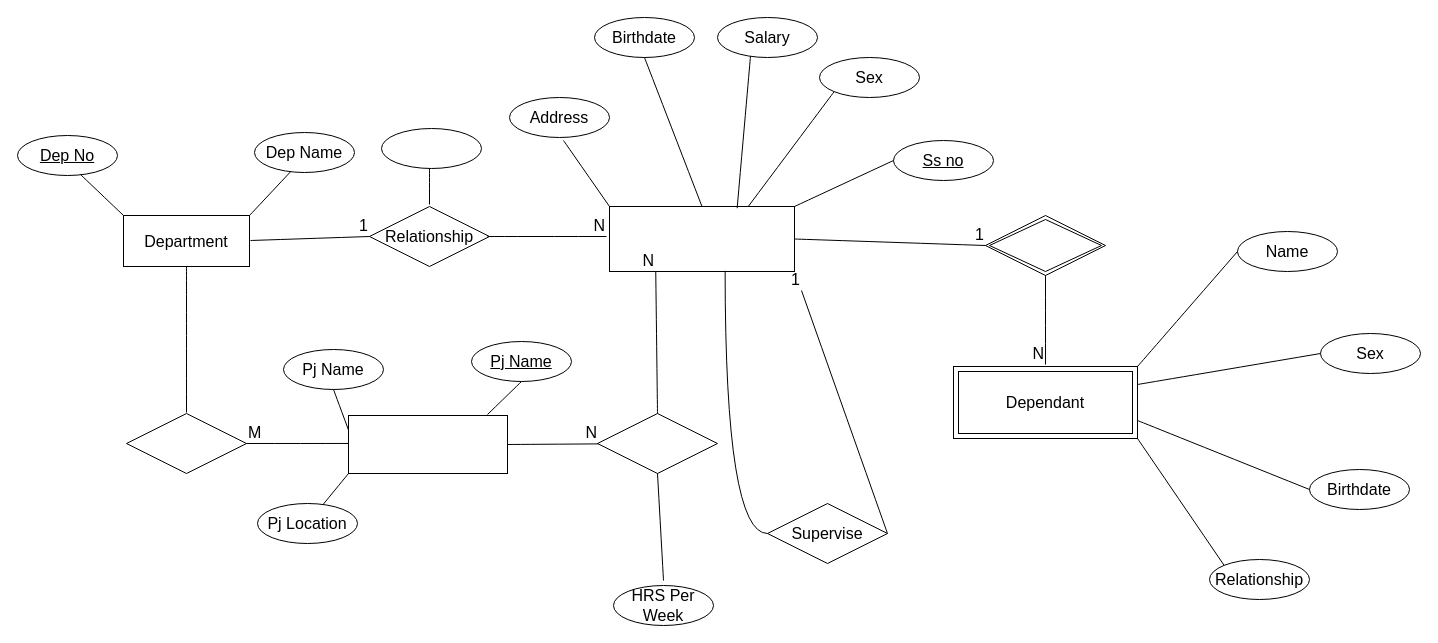
Some shapes in this 1438 by 643 pixel diagram are drawn without their labels. The centre of each missing label's shape, as x and y in pixels:
"Control" goes at [186,443].
"Depend" goes at [1045,245].
"Employee" goes at [701,239].
"Project" goes at [428,444].
"Start Date" goes at [431,148].
"Work" goes at [657,443].
